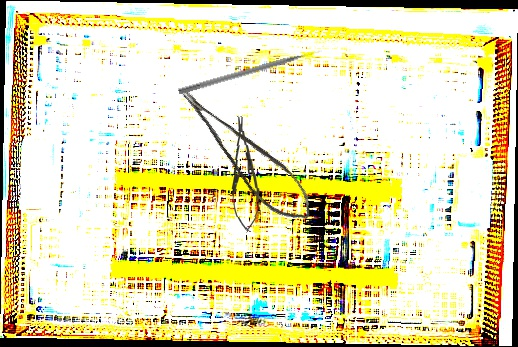Micro Scissor: (176, 69, 323, 237)
Needle Holder: (226, 114, 263, 234)
Pusher: (177, 47, 324, 97)
